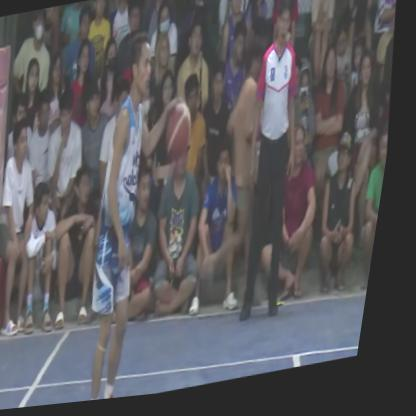basketball: (162, 99, 203, 175)
